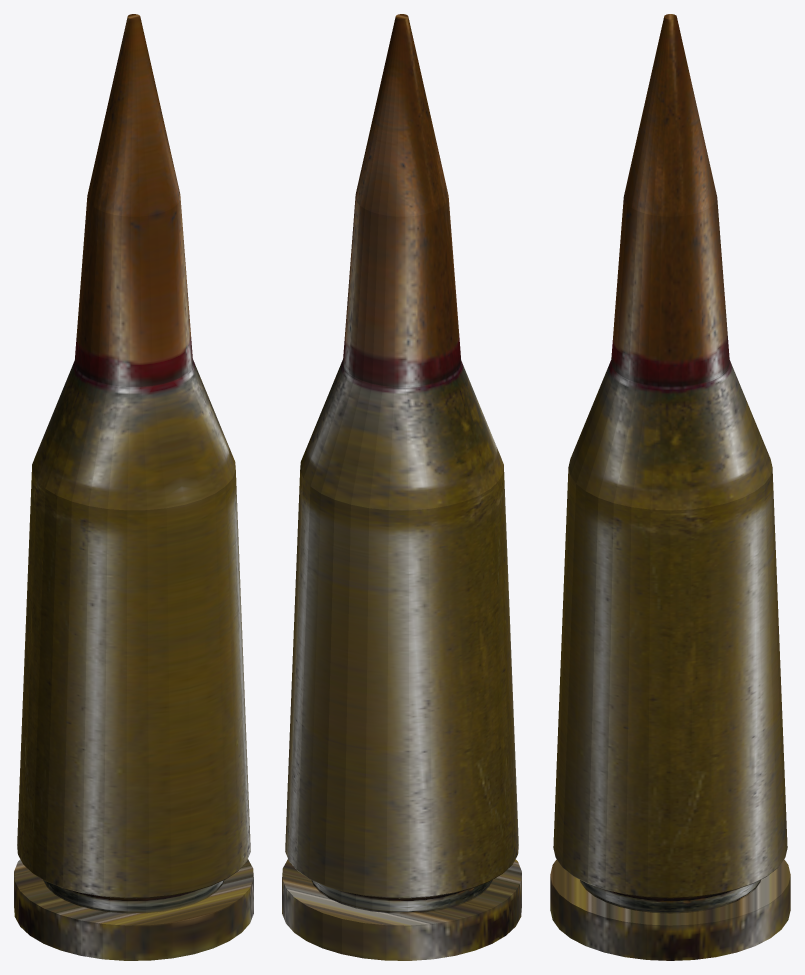
File: ammo.fbx
3 renders of one model, left to right at view 1: azimuth 30°, elevation 25°; view 2: azimuth 150°, elevation 25°; view 3: azimuth 270°, elevation 25°, orthographic.
Visible parts, largest first — view 1: Cylinder; view 2: Cylinder; view 3: Cylinder.
Boxes of the visible parts, x1,y1,x2,y2 form: Cylinder: (14, 14, 253, 960); Cylinder: (282, 14, 521, 960); Cylinder: (550, 14, 790, 960).
Bounding box in the file's own units: 200 × 820 × 200.
1 material, 1 textured.
